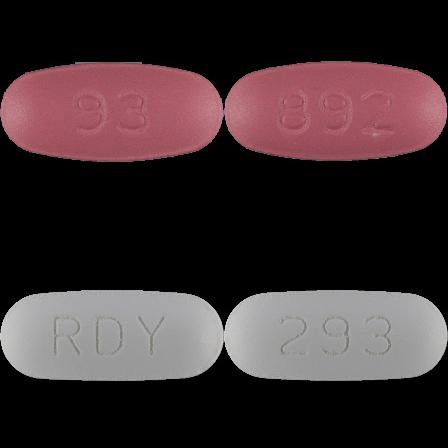52959-471: (0, 0, 224, 224)
